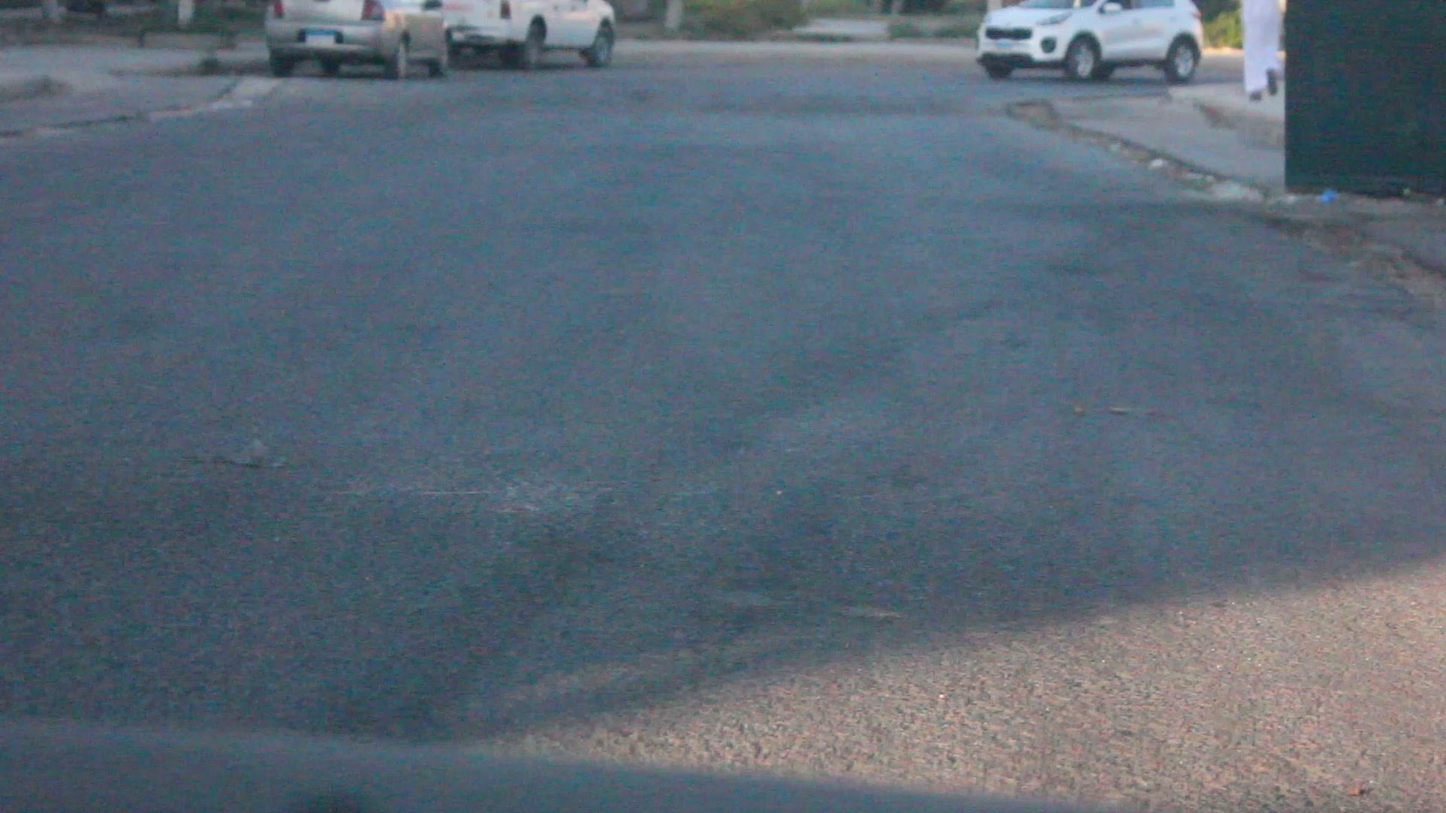Bump: (250, 68, 979, 119)
